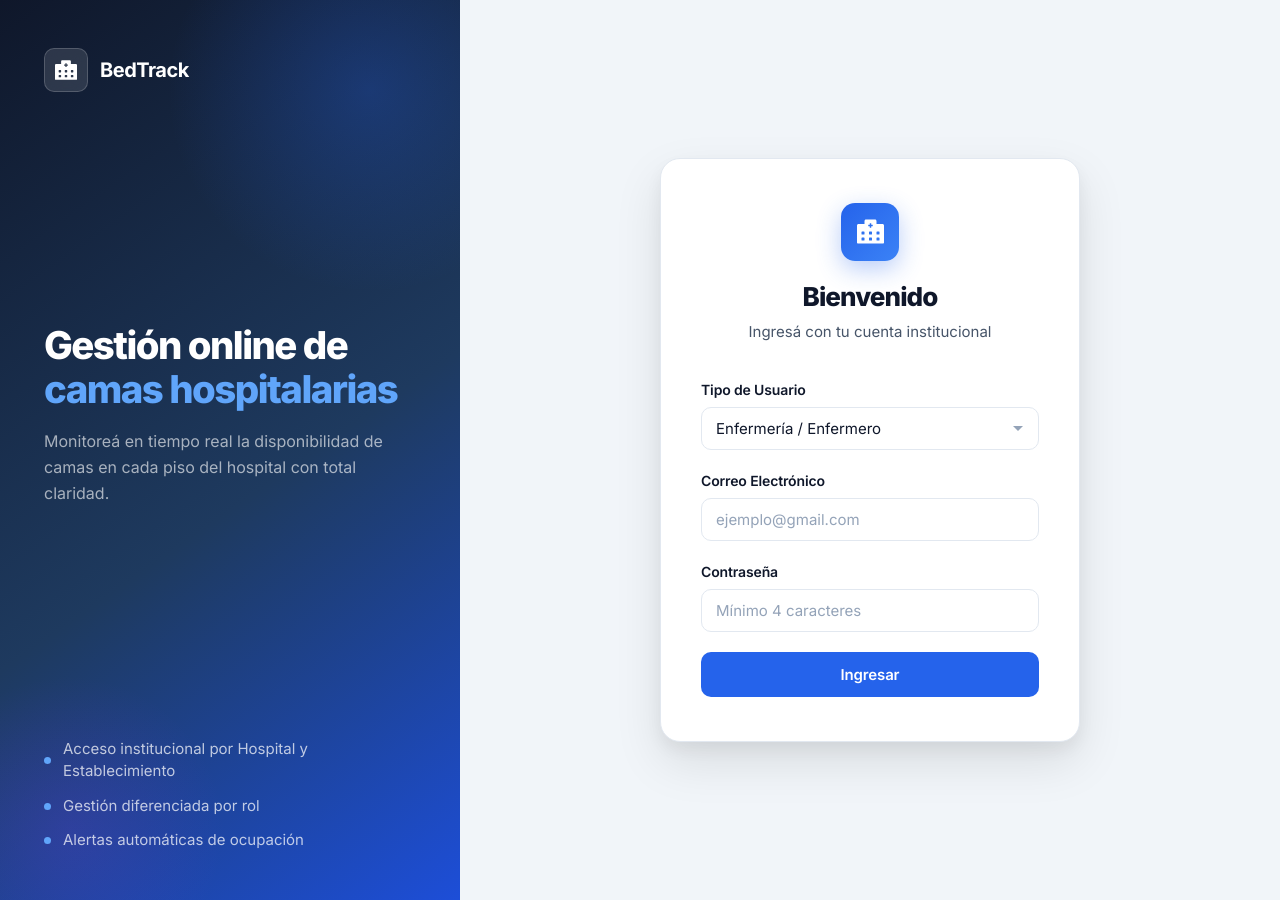
Test: Componente Login › Caso 3: muestra errores de validación al enviar con campos vacíos o inválidos
Click the button "Ingresar".
click(870, 675)  # box top-left (701, 652), bottom-right (1039, 697)
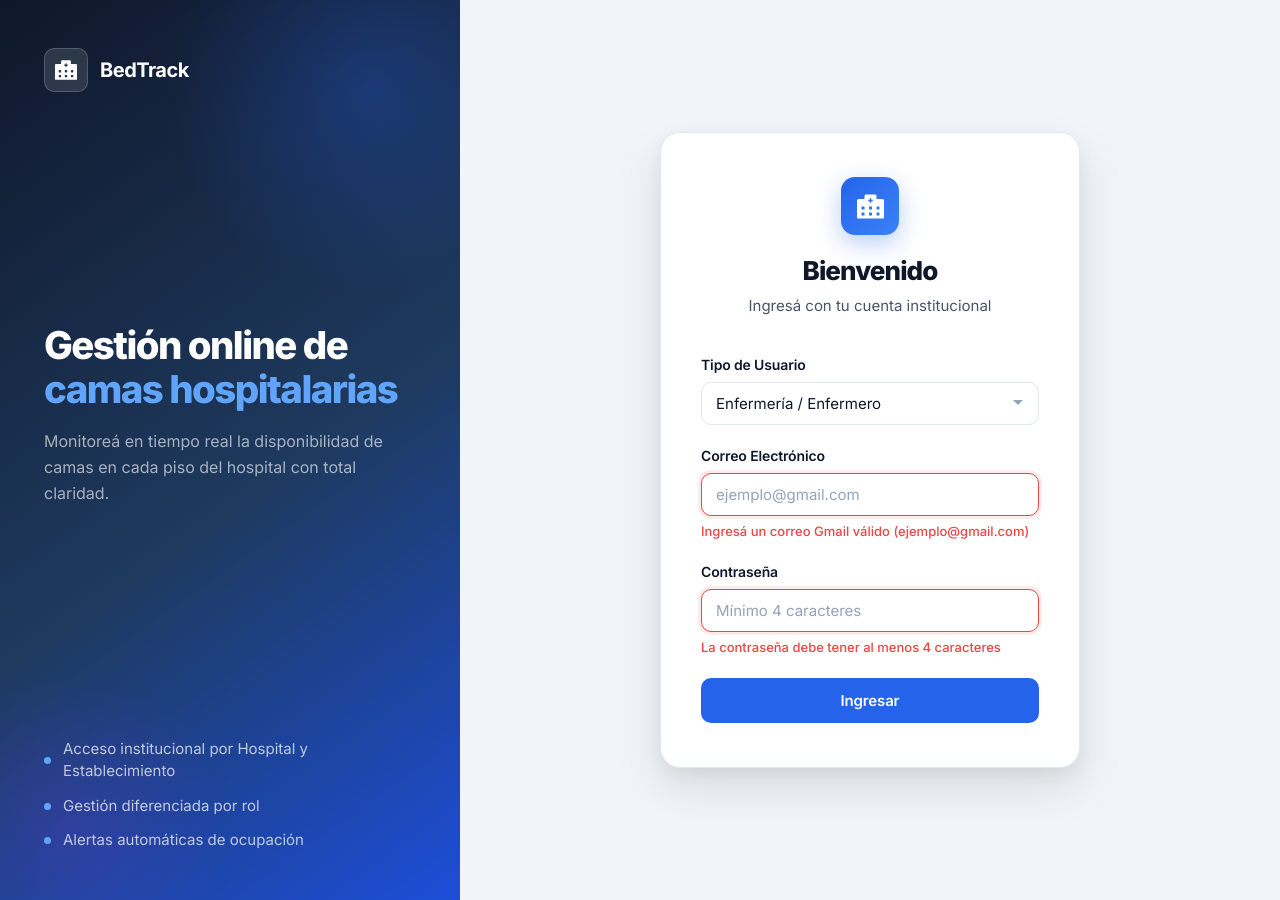
Now the text "Ingresá un correo Gmail válido (ejemplo@gmail.com)" is shown, box top-left (701, 522), bottom-right (1039, 541)
Now the text "La contraseña debe tener al menos 4 caracteres" is shown, box top-left (701, 638), bottom-right (1039, 658)
